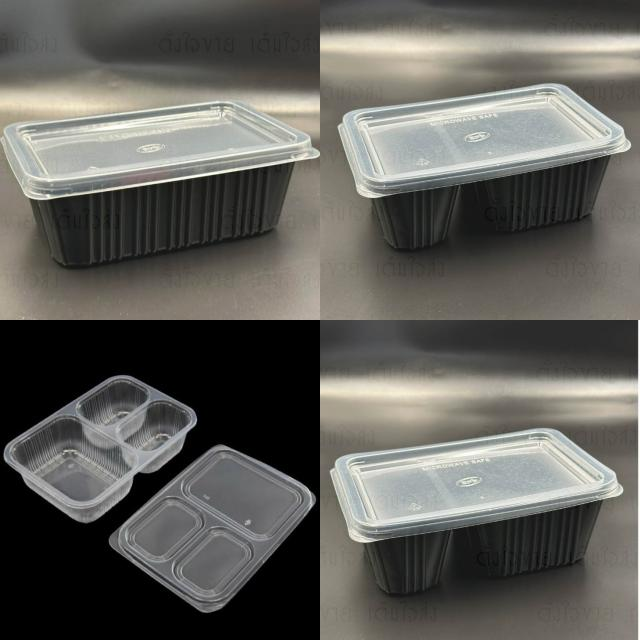Single-Use-Plastic: (1, 101, 319, 266), (339, 84, 630, 249), (331, 429, 622, 594), (110, 445, 315, 612), (4, 375, 196, 522)
